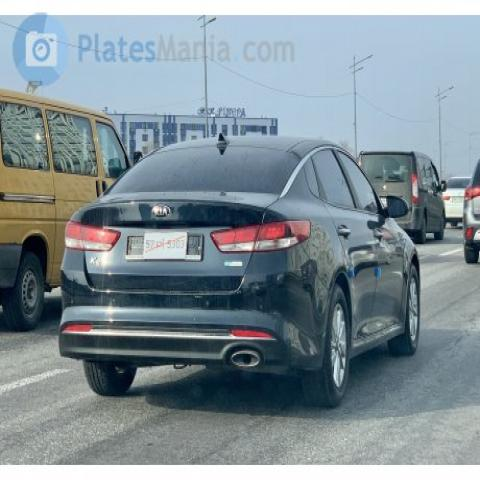LP: (124, 222, 204, 269)
